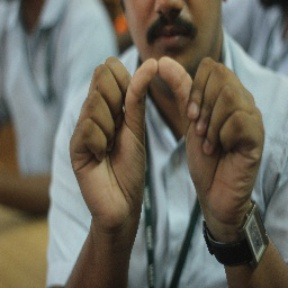A: (83, 52, 240, 185)
